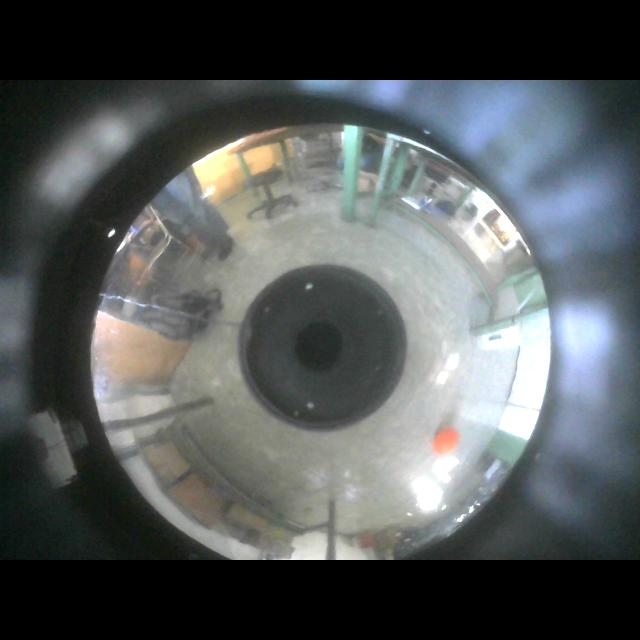bola: (434, 428, 459, 456)
